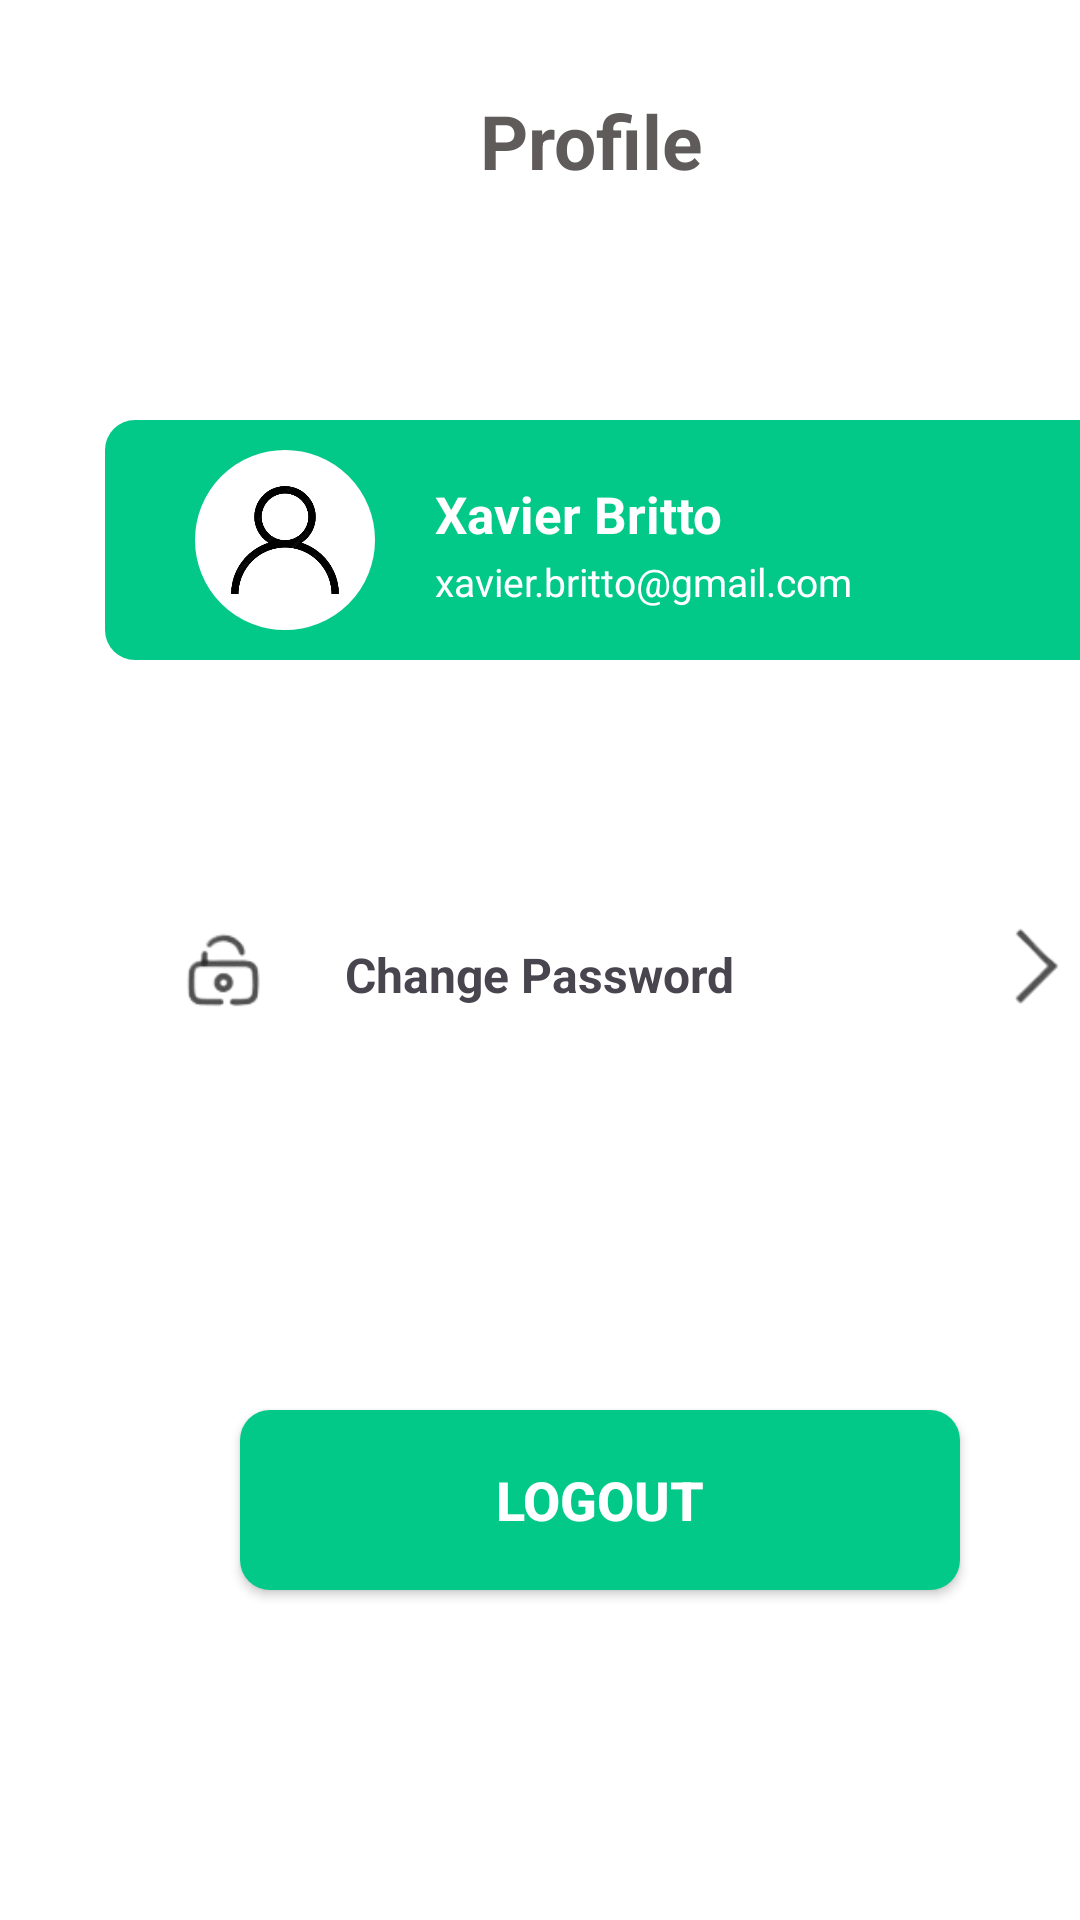

Where to tap for icons on this 1080×1920 app screen, as (x=x, y=y):
profil: (x=285, y=540)
